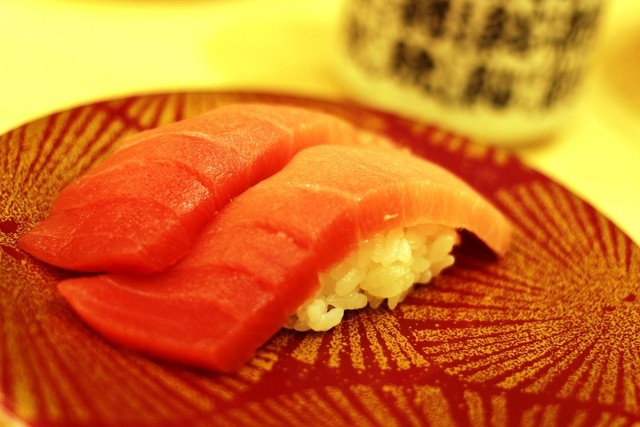medium_fatty_tuna: (89, 143, 514, 355)
